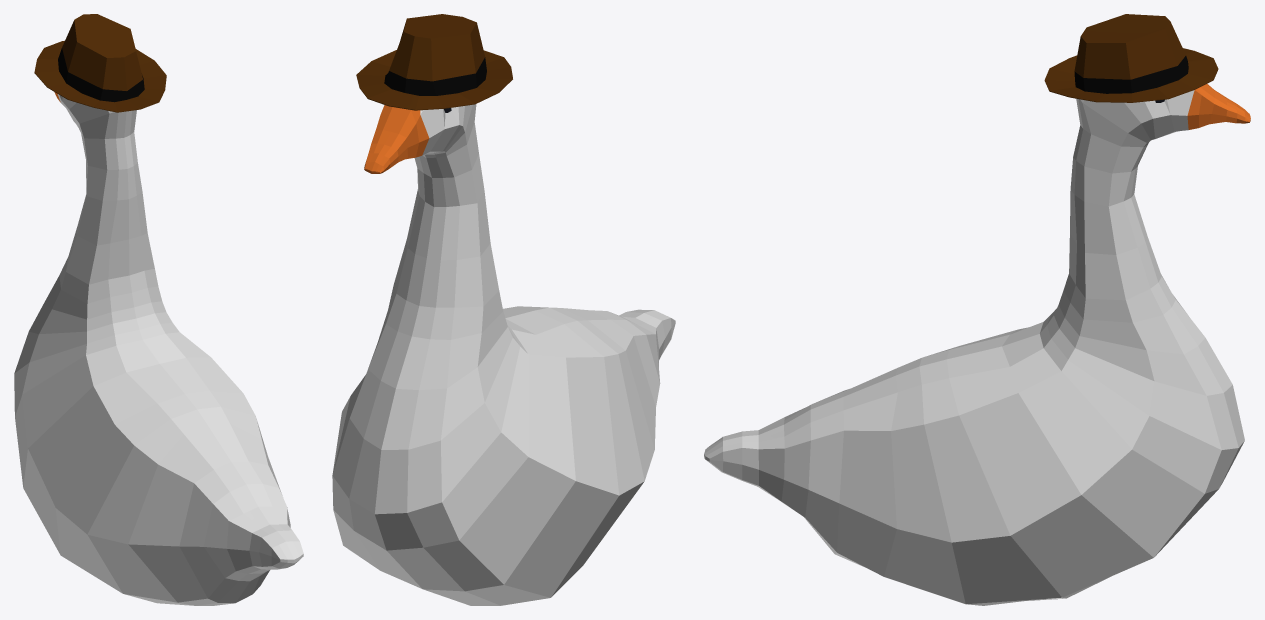
The model's file is UntitledGoose.glb.
3 renders of one model, left to right at view 1: azimuth 30°, elevation 25°; view 2: azimuth 150°, elevation 25°; view 3: azimuth 270°, elevation 25°, orthographic. The views are drawn at different scales.
Parts seen in each view (by area): view 1: Plane, Cube.001; view 2: Plane, Cube.001; view 3: Plane, Cube.001.
Boxes of the visible parts, left/top/right/bottom form: Plane: left=14, top=92, right=303, bottom=605; Cube.001: left=34, top=14, right=166, bottom=112; Plane: left=332, top=104, right=675, bottom=605; Cube.001: left=356, top=14, right=512, bottom=110; Plane: left=704, top=84, right=1250, bottom=605; Cube.001: left=1044, top=14, right=1218, bottom=102.
Size of the model in its own units: 1.54 by 3.82 by 3.29.
